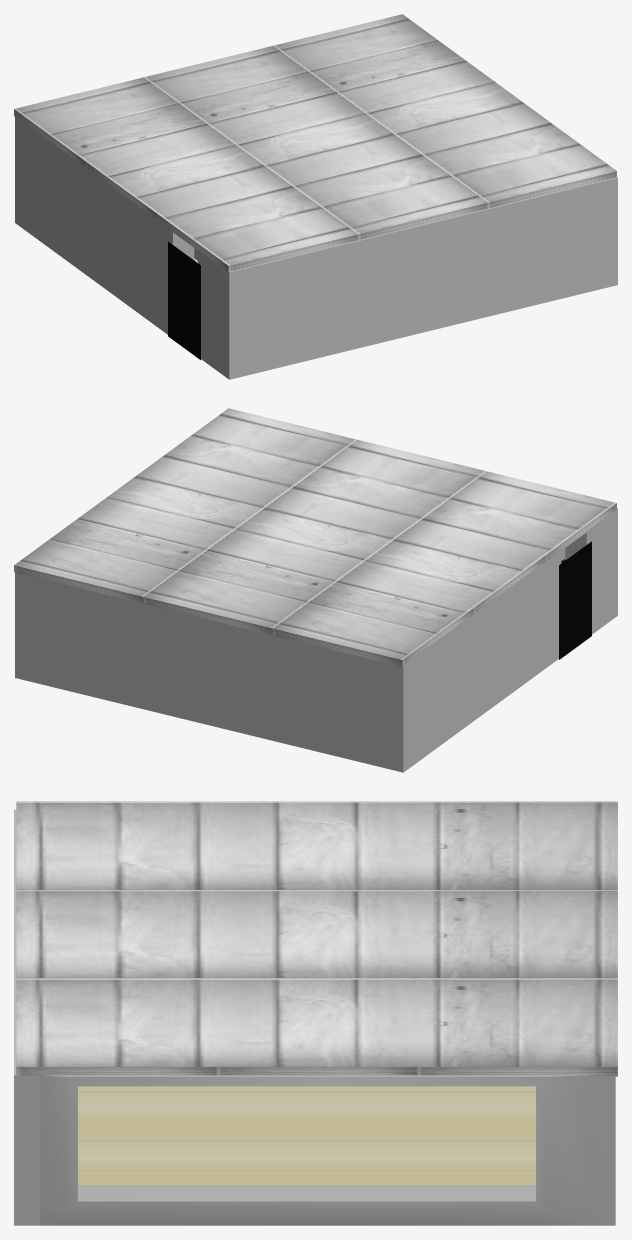
The model's file is Room.fbx.
The picture shows the model from 3 angles, top to bottom: view 1: azimuth 30°, elevation 25°; view 2: azimuth 150°, elevation 25°; view 3: azimuth 270°, elevation 25°; orthographic projection. The views are drawn at different scales.
Parts seen in each view (by area): view 1: ceiling, walls, blackdoorway; view 2: ceiling, walls, blackdoorway; view 3: ceiling, walls, ramen, floor.
Boxes of the visible parts, box(x1,y1,x2,y2) form: ceiling: box(14, 14, 616, 271); walls: box(15, 116, 617, 379); blackdoorway: box(168, 241, 200, 359); ceiling: box(14, 408, 616, 666); walls: box(15, 508, 617, 772); blackdoorway: box(559, 541, 591, 659); ceiling: box(16, 801, 617, 1076); walls: box(14, 809, 615, 1225); ramen: box(78, 1087, 535, 1186); floor: box(78, 1086, 535, 1185).
Size of the model in its own units: 1150 by 317 by 1092.
6 materials, 3 textured.
